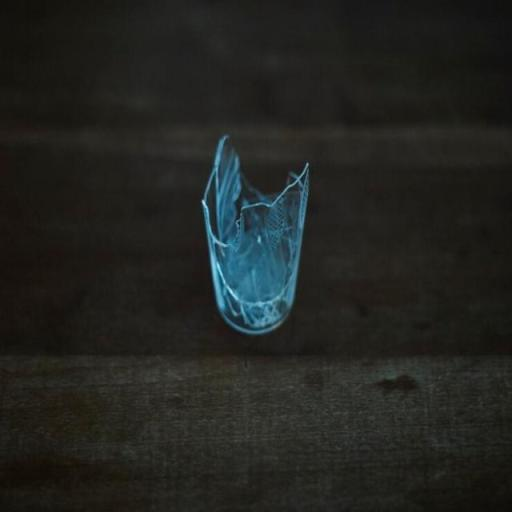glass: (186, 128, 316, 352)
